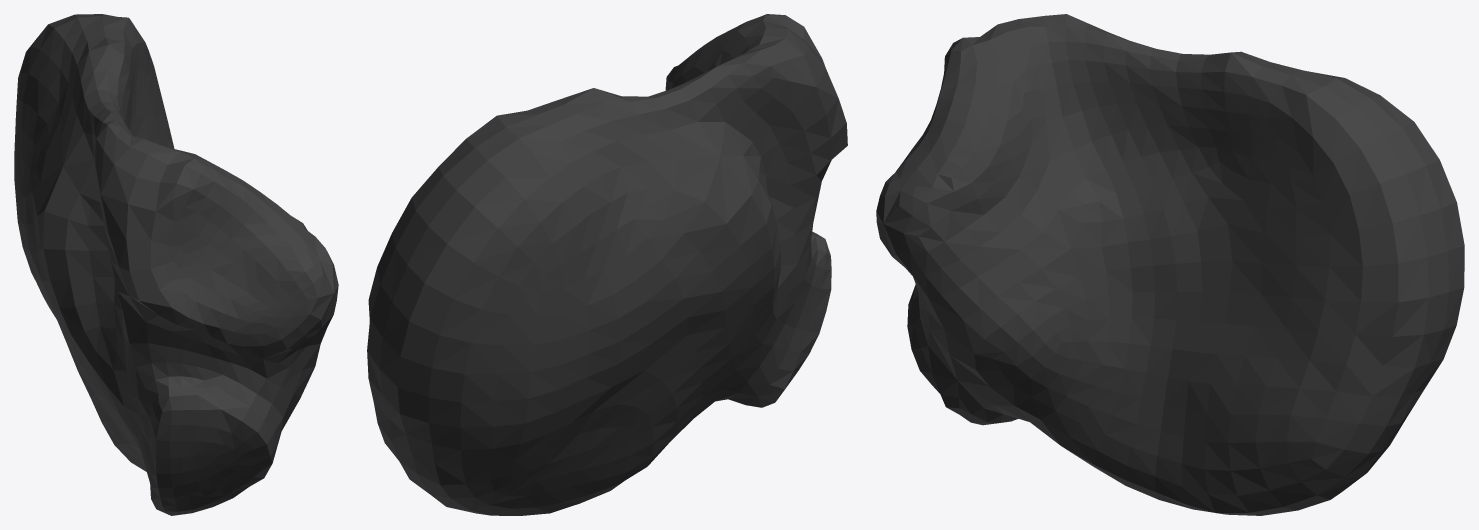
File: Acc_carp_R.glb
3 renders of one model, left to right at view 1: azimuth 30°, elevation 25°; view 2: azimuth 150°, elevation 25°; view 3: azimuth 270°, elevation 25°, orthographic. The views are drawn at different scales.
Parts seen in each view (by area): view 1: Acc_carp_R; view 2: Acc_carp_R; view 3: Acc_carp_R.
Part boxes in pixels (x1,y1,x2,y2): Acc_carp_R: (14,14,338,515); Acc_carp_R: (367,14,847,515); Acc_carp_R: (876,14,1464,515).
Bounding box in the file's own units: 0.0396 × 0.0611 × 0.0756.
Materials: 1 (1 with a texture image).
